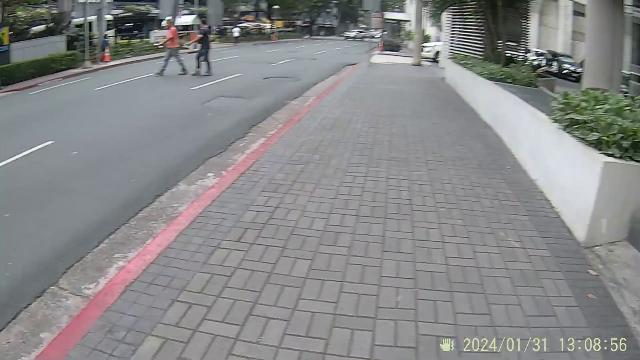utility_post: (406, 0, 430, 68)
